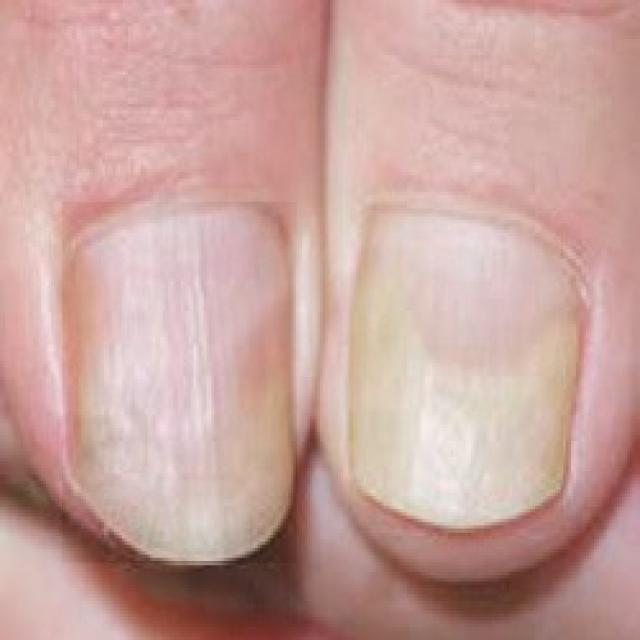diabetes: (63, 203, 297, 563), (350, 209, 582, 530)
